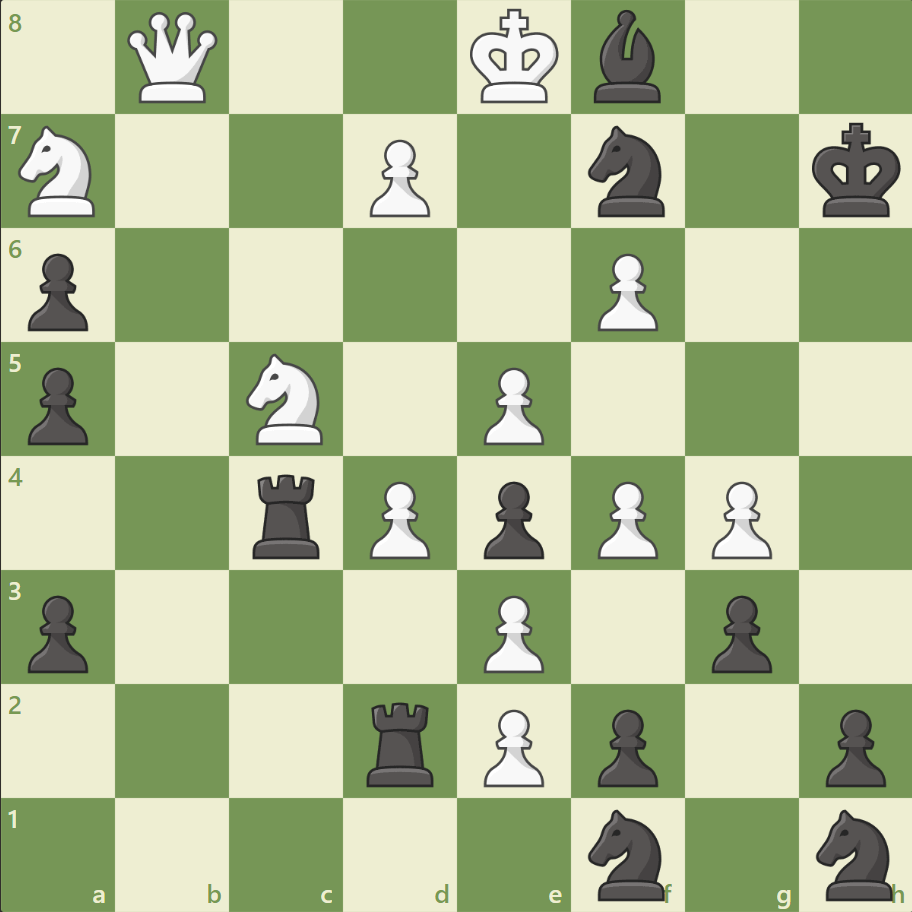K: (465, 4, 565, 112)
N: (11, 121, 108, 223), (238, 348, 335, 450)
P: (474, 359, 549, 450), (701, 473, 776, 564), (474, 586, 549, 677), (474, 700, 549, 791), (361, 132, 435, 223), (588, 246, 662, 337), (361, 473, 435, 564), (588, 473, 662, 564)
Q: (124, 9, 223, 108)
b: (585, 6, 669, 109)
k: (806, 117, 906, 225)
n: (579, 121, 676, 223), (579, 802, 676, 904), (806, 802, 903, 904)
p: (20, 246, 95, 337), (20, 359, 95, 450), (474, 473, 549, 564), (20, 586, 95, 677), (701, 586, 776, 677), (588, 700, 662, 791), (815, 700, 889, 791)
r: (246, 466, 329, 563), (360, 693, 442, 790)
